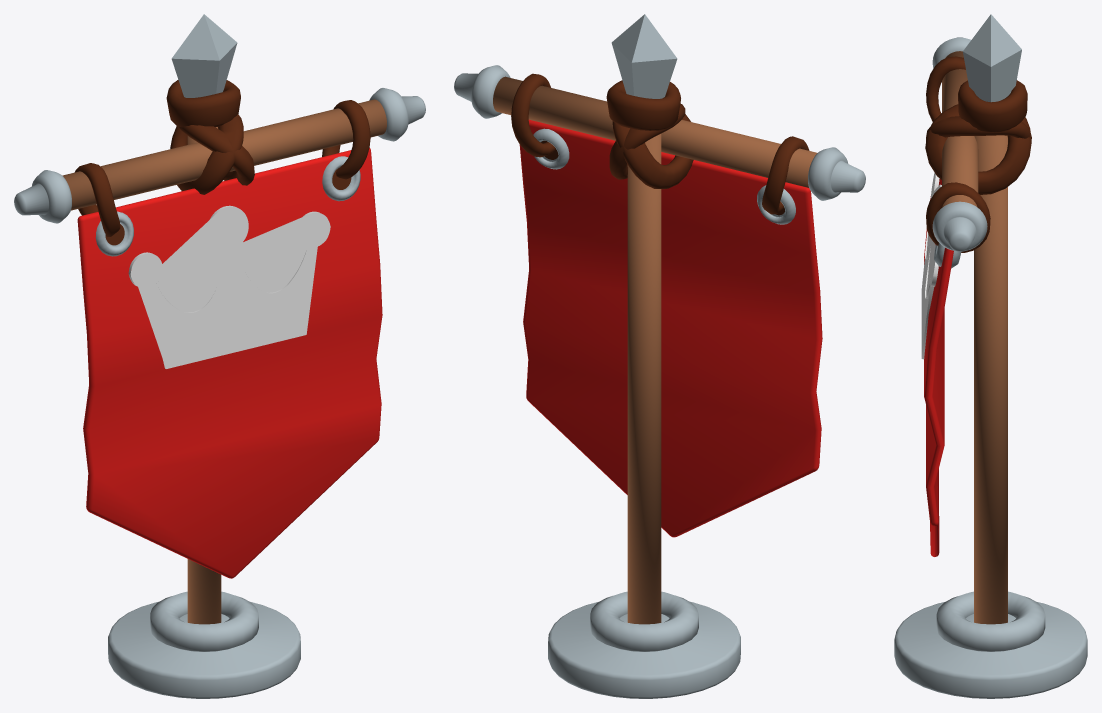
Rendered from kingflag.fbx.
The picture shows the model from 3 angles, left to right: view 1: azimuth 30°, elevation 25°; view 2: azimuth 150°, elevation 25°; view 3: azimuth 270°, elevation 25°; orthographic projection.
Visible parts, largest first — view 1: kingflag; view 2: kingflag; view 3: kingflag.
Boxes of the visible parts, left/top/right/bottom form: kingflag: left=14, top=14, right=425, bottom=698; kingflag: left=454, top=14, right=865, bottom=698; kingflag: left=894, top=14, right=1087, bottom=698.
Bounding box in the file's own units: 379 × 578 × 157.
